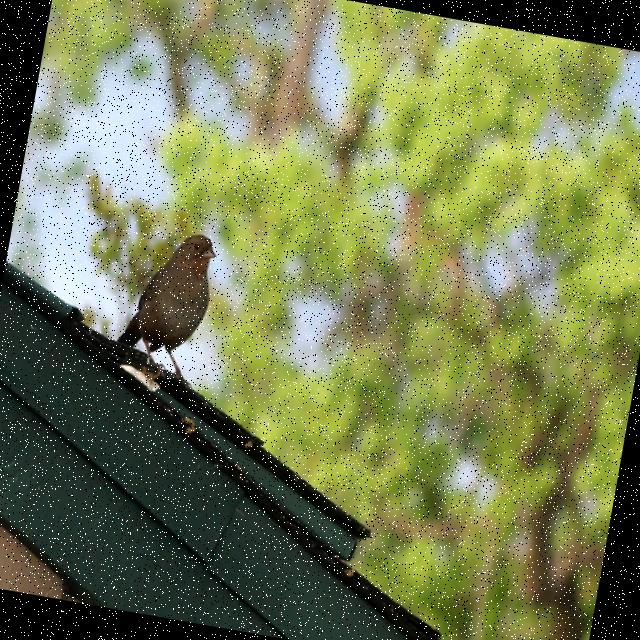bird: (106, 220, 226, 390)
